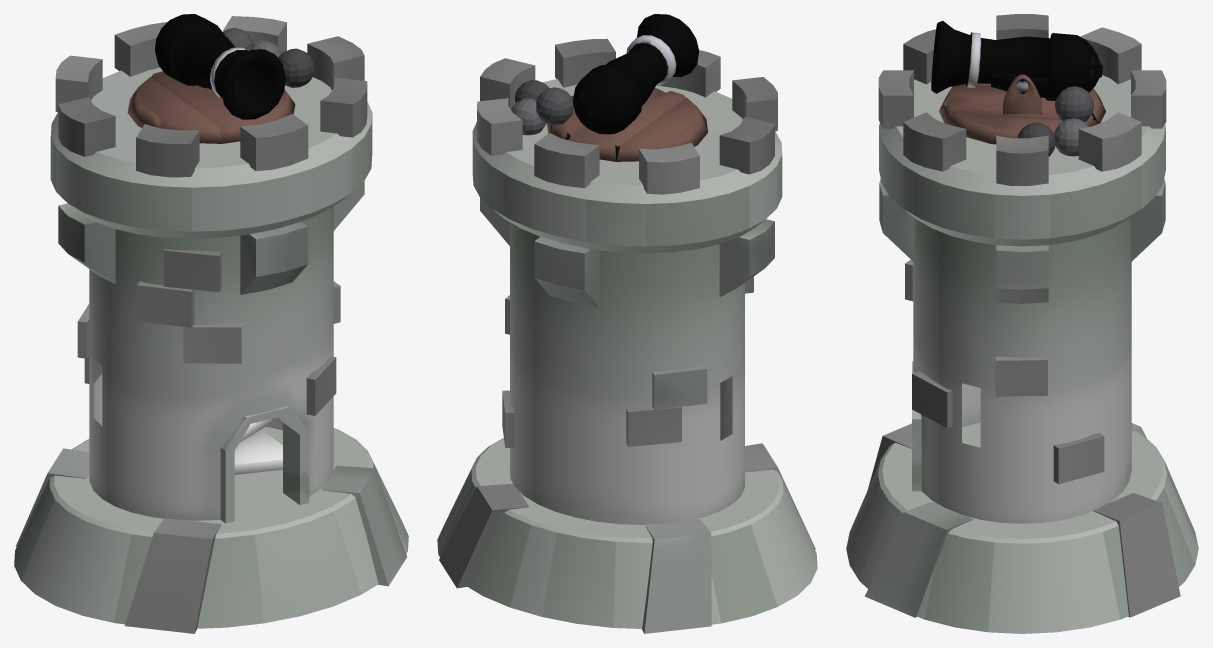
The model's file is torre_mejorada_pintada.glb.
The picture shows the model from 3 angles, left to right: view 1: azimuth 30°, elevation 25°; view 2: azimuth 150°, elevation 25°; view 3: azimuth 270°, elevation 25°; orthographic projection. The views are drawn at different scales.
Visible parts, largest first — view 1: Cylinder, Roundcube.001, Cube.024; view 2: Cylinder, Roundcube.001; view 3: Cylinder, Roundcube.001.
Boxes of the visible parts, box(x1,y1,x2,y2) form: Cylinder: box(14, 16, 408, 633); Roundcube.001: box(127, 14, 314, 143); Cube.024: box(234, 419, 282, 474); Cylinder: box(437, 38, 817, 633); Roundcube.001: box(511, 14, 708, 161); Cylinder: box(846, 14, 1198, 633); Roundcube.001: box(931, 20, 1105, 156).
Size of the model in its own units: 5.09 by 7.32 by 4.45.
2 materials, 2 textured.
